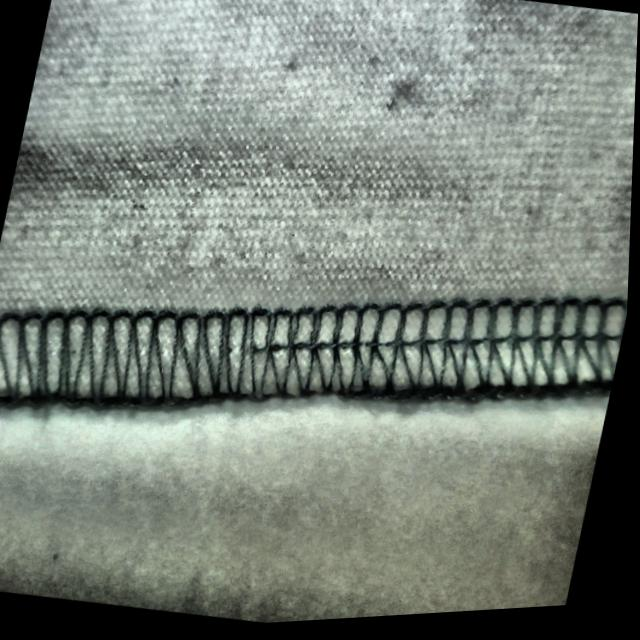Stitch: (51, 230, 505, 472)
